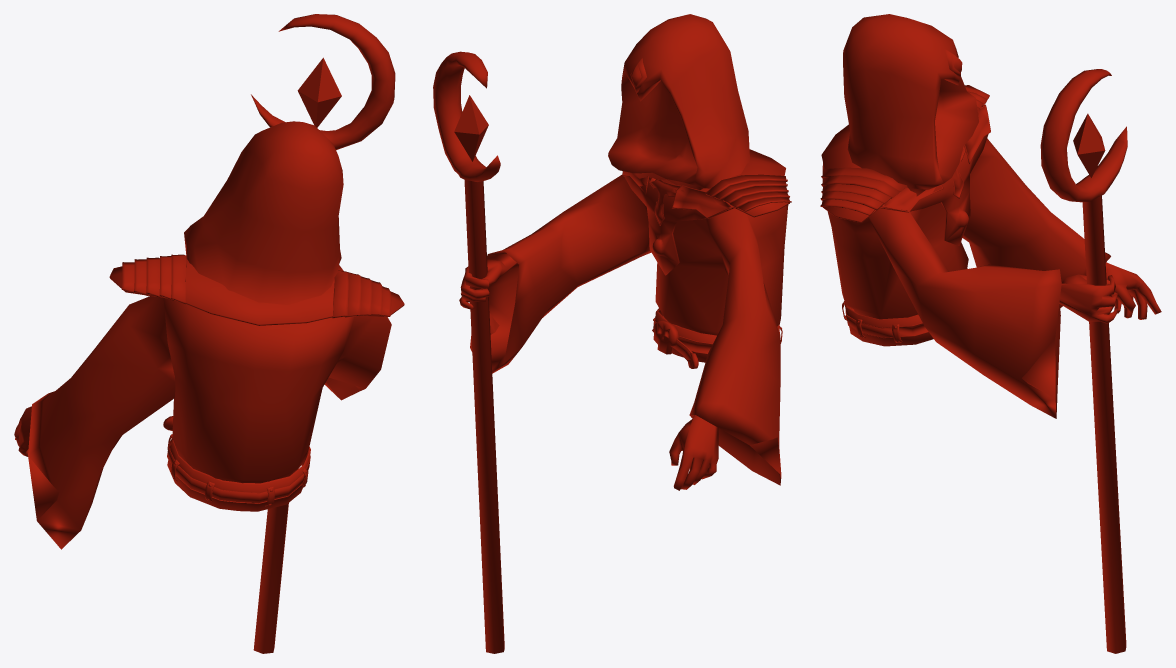
Rendered from top_000066.obj.
3 renders of one model, left to right at view 1: azimuth 30°, elevation 25°; view 2: azimuth 150°, elevation 25°; view 3: azimuth 270°, elevation 25°, orthographic. The views are drawn at different scales.
Parts seen in each view (by area): view 1: LowPoly_Warlock.000_Plane.005; view 2: LowPoly_Warlock.000_Plane.005; view 3: LowPoly_Warlock.000_Plane.005.
Part boxes in pixels (left/top/right/bottom): LowPoly_Warlock.000_Plane.005: left=14, top=14, right=404, bottom=653; LowPoly_Warlock.000_Plane.005: left=433, top=14, right=791, bottom=653; LowPoly_Warlock.000_Plane.005: left=820, top=14, right=1161, bottom=653.
Bounding box in the file's own units: 1.16 × 1.9 × 0.9869.
